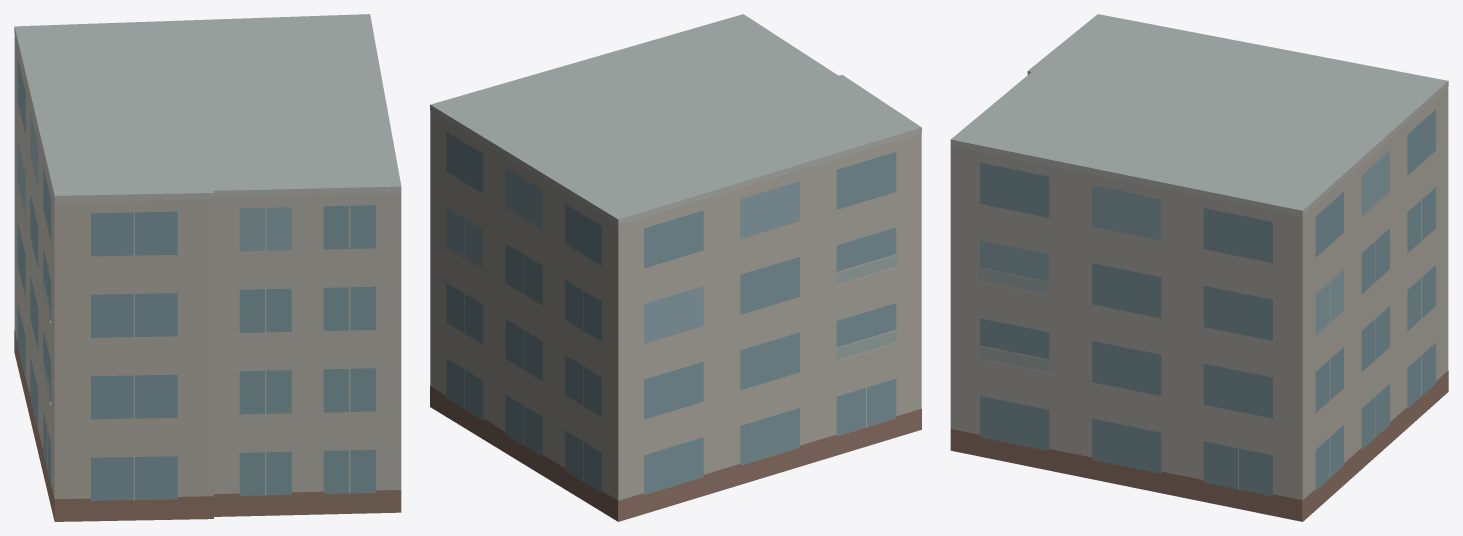
The model's file is survey-upis-32815547.glb.
3 renders of one model, left to right at view 1: azimuth 30°, elevation 25°; view 2: azimuth 150°, elevation 25°; view 3: azimuth 270°, elevation 25°, orthographic. The views are drawn at different scales.
Visible parts, largest first — view 1: survey-upis-32815547.tmp; view 2: survey-upis-32815547.tmp; view 3: survey-upis-32815547.tmp.
Part boxes in pixels (x1=…): survey-upis-32815547.tmp: x1=14, y1=14, x2=401, y2=521; survey-upis-32815547.tmp: x1=430, y1=14, x2=921, y2=521; survey-upis-32815547.tmp: x1=950, y1=14, x2=1448, y2=521.
Bounding box in the file's own units: 17.72 × 13.05 × 18.94.
